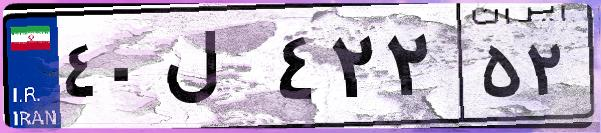0: (110, 28, 158, 98)
2: (385, 28, 445, 110), (330, 28, 385, 110), (525, 38, 570, 115)
4: (270, 28, 330, 110), (57, 26, 110, 100)
5: (475, 38, 525, 113)
ل: (158, 20, 270, 120)
